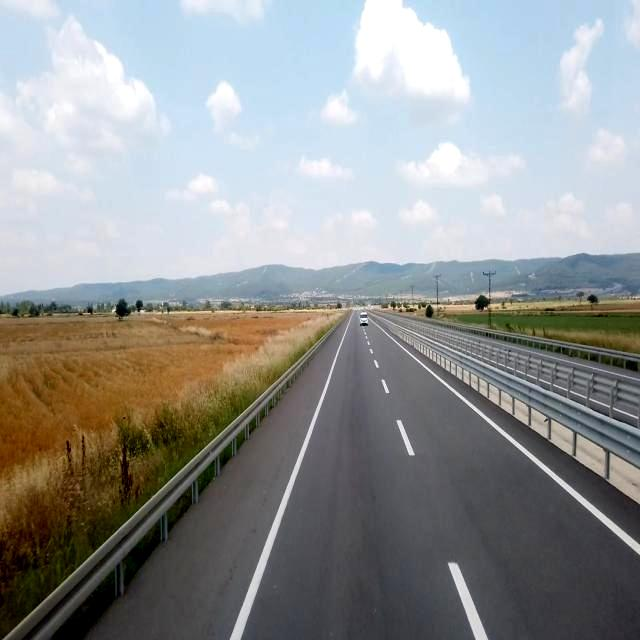lane: (374, 322, 640, 556), (229, 316, 351, 639), (449, 561, 489, 640), (397, 420, 414, 456), (382, 379, 389, 393)
road: (84, 312, 639, 639)
